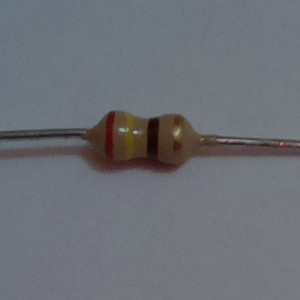brown_band: (145, 114, 160, 161)
gold_band: (170, 112, 186, 167)
red_band: (103, 108, 117, 163)
yellow_band: (124, 110, 134, 162)
